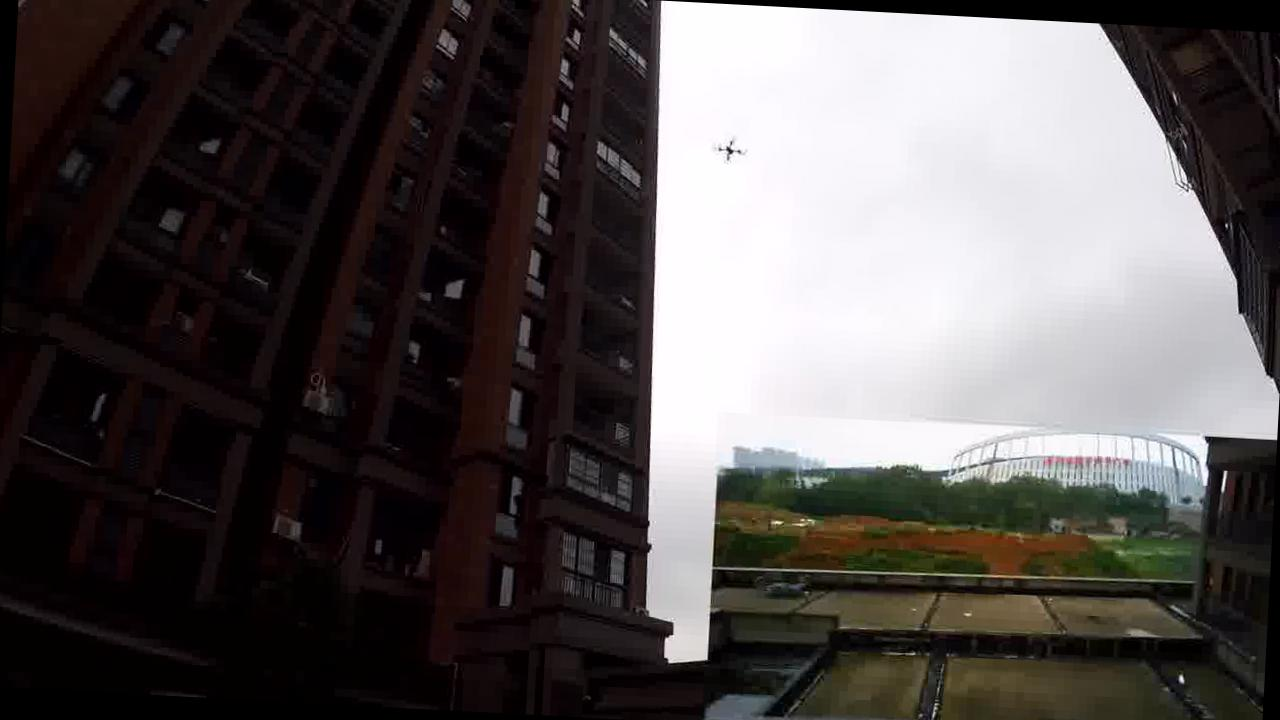drone: (710, 133, 749, 164)
